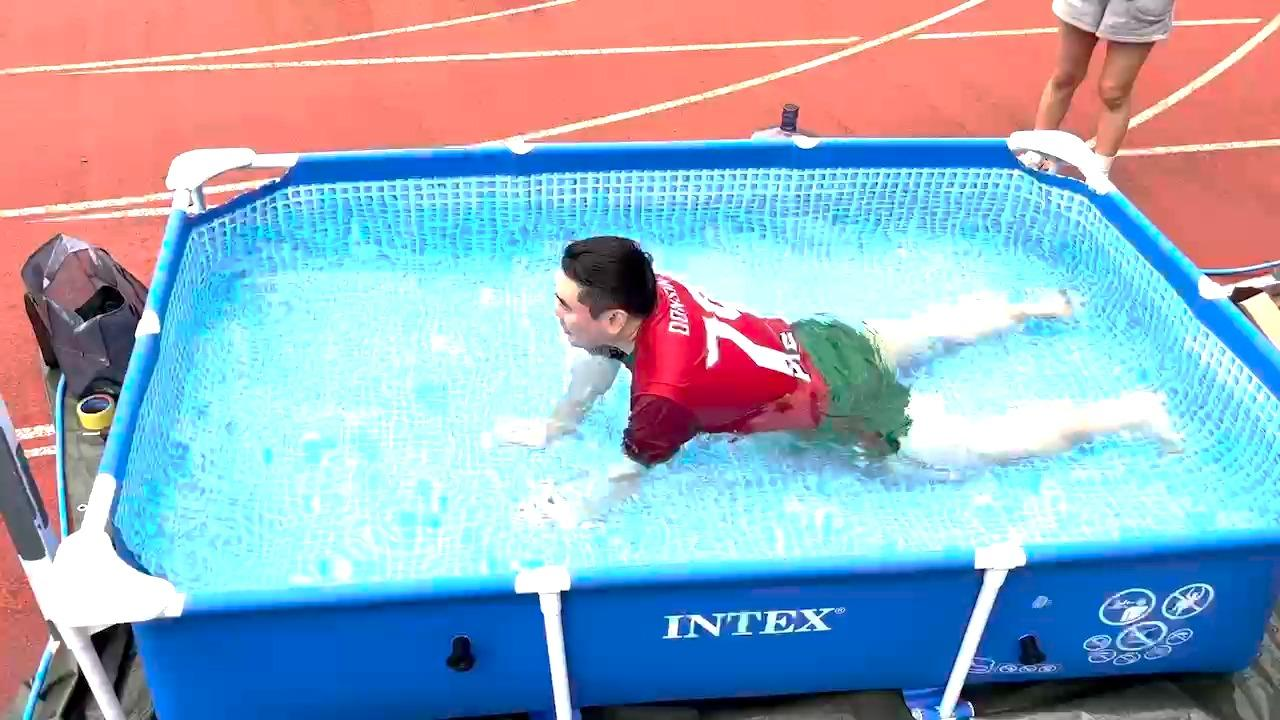Drowning: (492, 195, 1212, 525)
